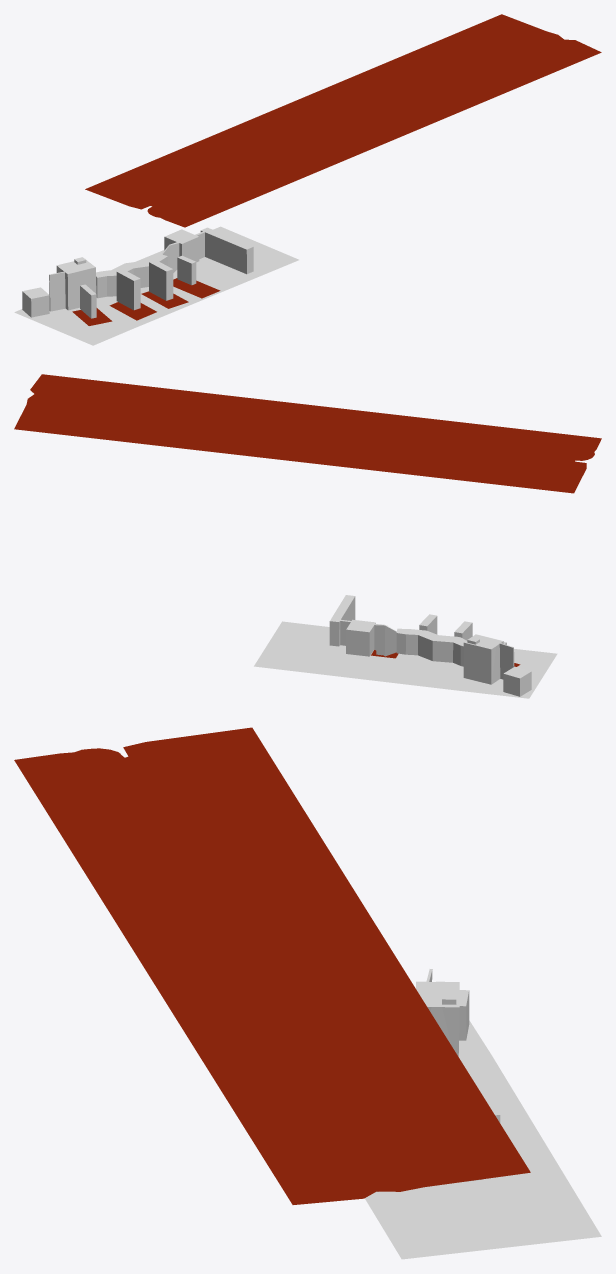
File: aeroporto2.dae
3 views of the same model, one above another, from view 1: azimuth 30°, elevation 25°; view 2: azimuth 150°, elevation 25°; view 3: azimuth 270°, elevation 25° (orthographic). The views are drawn at different scales.
Visible parts, largest first — view 1: Plane_006, Plane, Plane_001, Cube_002, Cube_001, Cube_003, Plane_005, Cube; view 2: Plane_006, Plane_001, Plane; view 3: Plane_006, Plane_001, Plane.
Part boxes in pixels (x1,y1,x2,y2): Plane_006: (85,14,601,227); Plane: (22,227,253,317); Plane_001: (14,226,298,345); Cube_002: (149,260,173,300); Cube_001: (116,269,140,310); Cube_003: (177,255,196,285); Plane_005: (173,278,220,298); Cube: (80,284,96,318); Plane_006: (14,374,601,493); Plane_001: (254,621,557,698); Plane: (329,595,531,696); Plane_006: (14,727,530,1204); Plane_001: (365,1020,601,1259); Plane: (376,969,500,1191).
Size of the model in its own units: 8.16 by 4.14 by 2.34.
